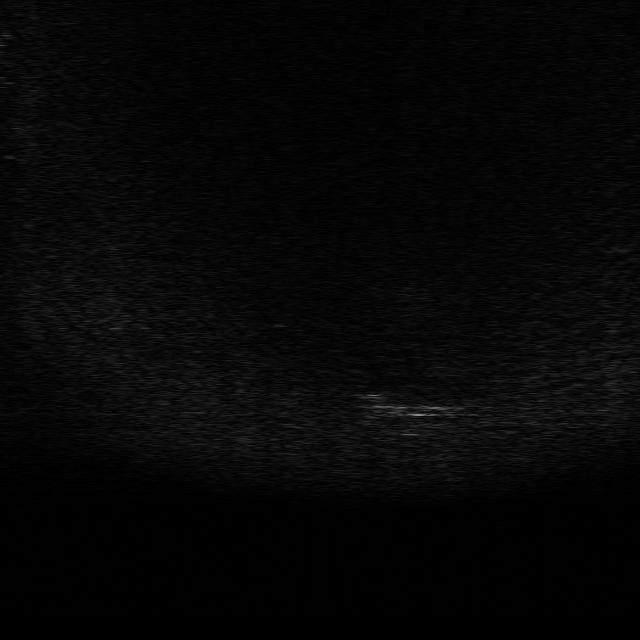plane: (358, 389, 468, 439)
